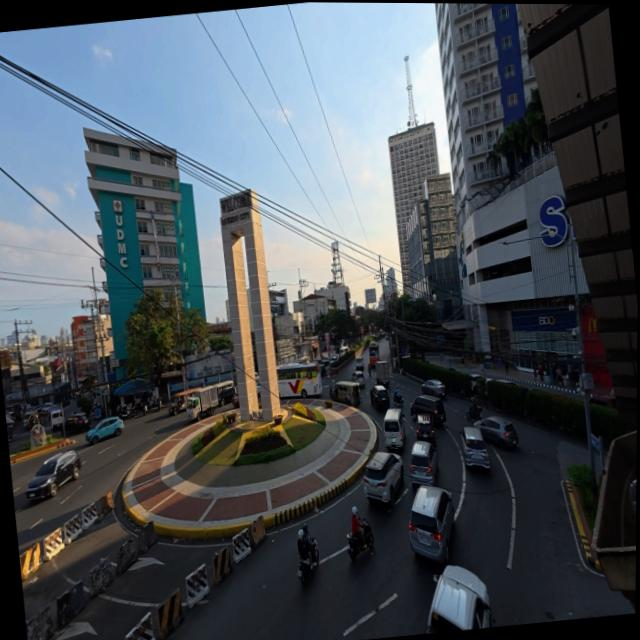Jeepneys: (330, 381, 361, 406), (169, 395, 186, 415)
bus: (277, 363, 322, 398), (369, 342, 379, 366)
car: (425, 566, 491, 633), (409, 486, 454, 561), (26, 451, 81, 500), (363, 452, 404, 506), (475, 416, 519, 447), (410, 440, 438, 485), (461, 426, 490, 469), (86, 417, 124, 444), (411, 395, 446, 424), (416, 413, 435, 444), (65, 413, 90, 435), (370, 385, 390, 410), (422, 379, 446, 397), (590, 394, 617, 408), (219, 387, 236, 406), (23, 412, 40, 428), (470, 373, 485, 391), (485, 378, 518, 386), (351, 371, 365, 388), (41, 402, 54, 416), (1, 435, 9, 450), (356, 357, 364, 371), (232, 394, 239, 408), (321, 356, 329, 366), (330, 355, 338, 363), (257, 382, 260, 398), (256, 373, 259, 383)
motorcycle: (347, 519, 374, 560), (298, 559, 312, 584), (467, 407, 482, 421), (328, 382, 338, 401), (120, 406, 132, 419), (393, 393, 403, 407), (154, 398, 162, 411), (143, 403, 148, 414), (368, 365, 371, 376)
trucks: (186, 386, 218, 420), (375, 361, 390, 388)
vans: (411, 395, 446, 425), (384, 409, 405, 449)
